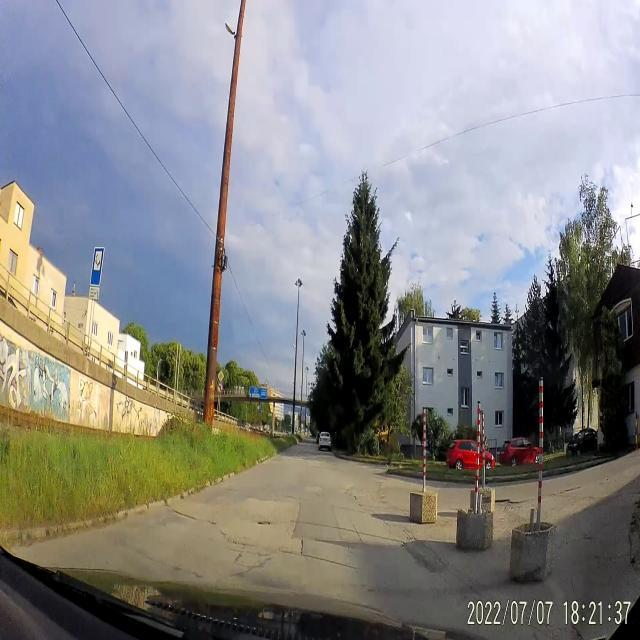Pothole: (251, 511, 276, 531), (167, 512, 196, 528)
